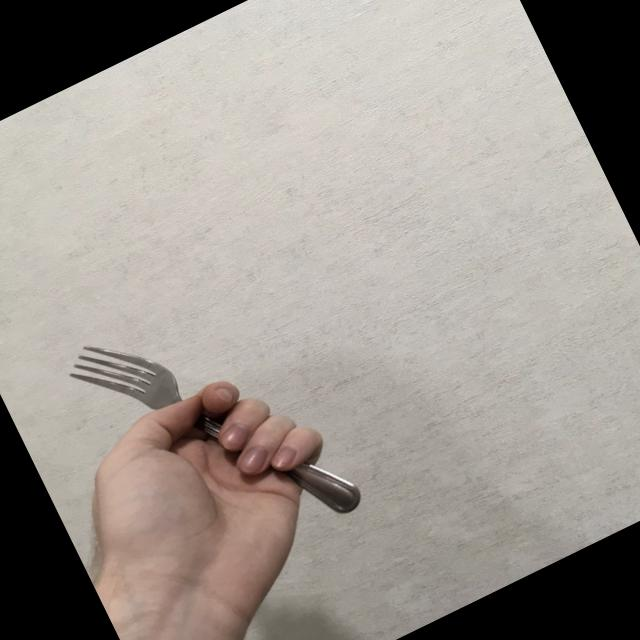fork: (56, 265, 368, 597)
